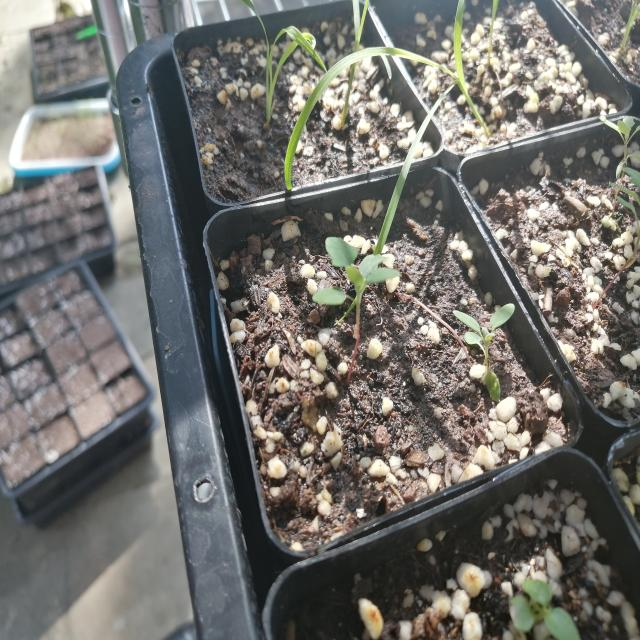goosefoots: (299, 222, 423, 354), (437, 304, 534, 404)
